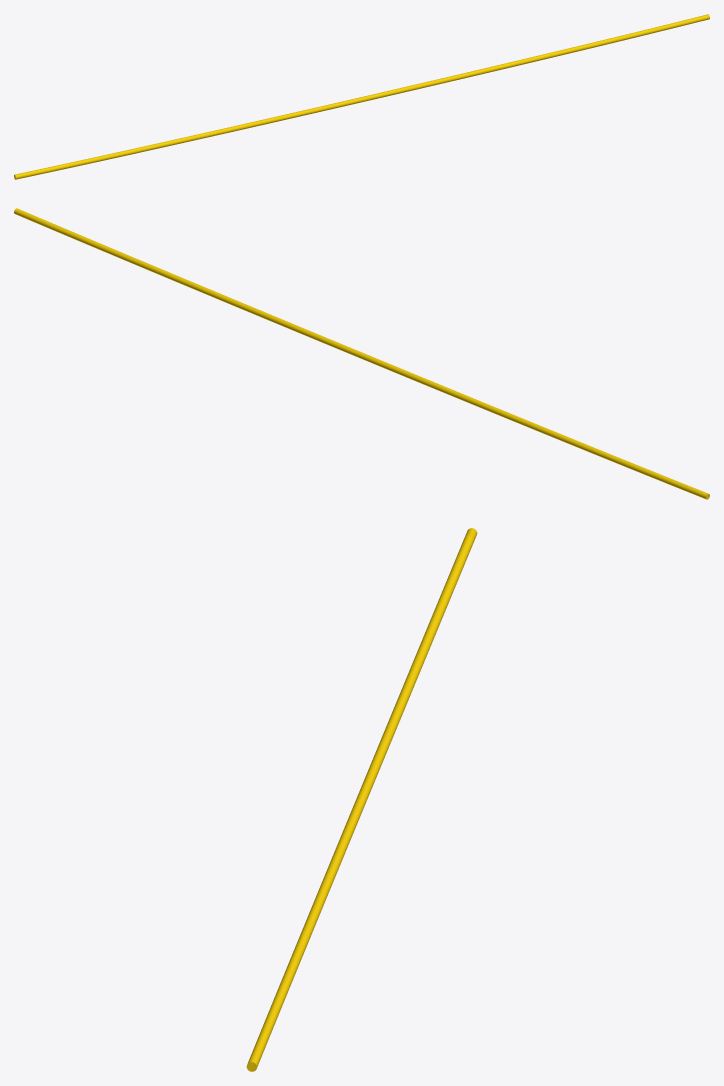
The model's file is Event_421364160_track_35.fbx.
3 views of the same model, one above another, from view 1: azimuth 30°, elevation 25°; view 2: azimuth 150°, elevation 25°; view 3: azimuth 270°, elevation 25° (orthographic). The views are drawn at different scales.
Visible parts, largest first — view 1: Model; view 2: Model; view 3: Model.
Boxes of the visible parts, <box> form: Model: <box>14,14,709,179</box>; Model: <box>14,208,709,499</box>; Model: <box>246,528,477,1071</box>.
Size of the model in its own units: 5.69 by 0.4205 by 0.8876.
